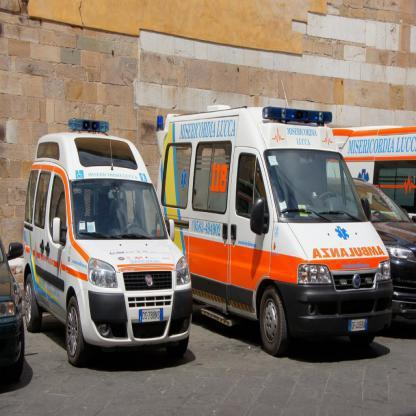Ambulance - v1 Ambulance last generate: (156, 79, 393, 358), (24, 115, 193, 365), (331, 125, 415, 227)
